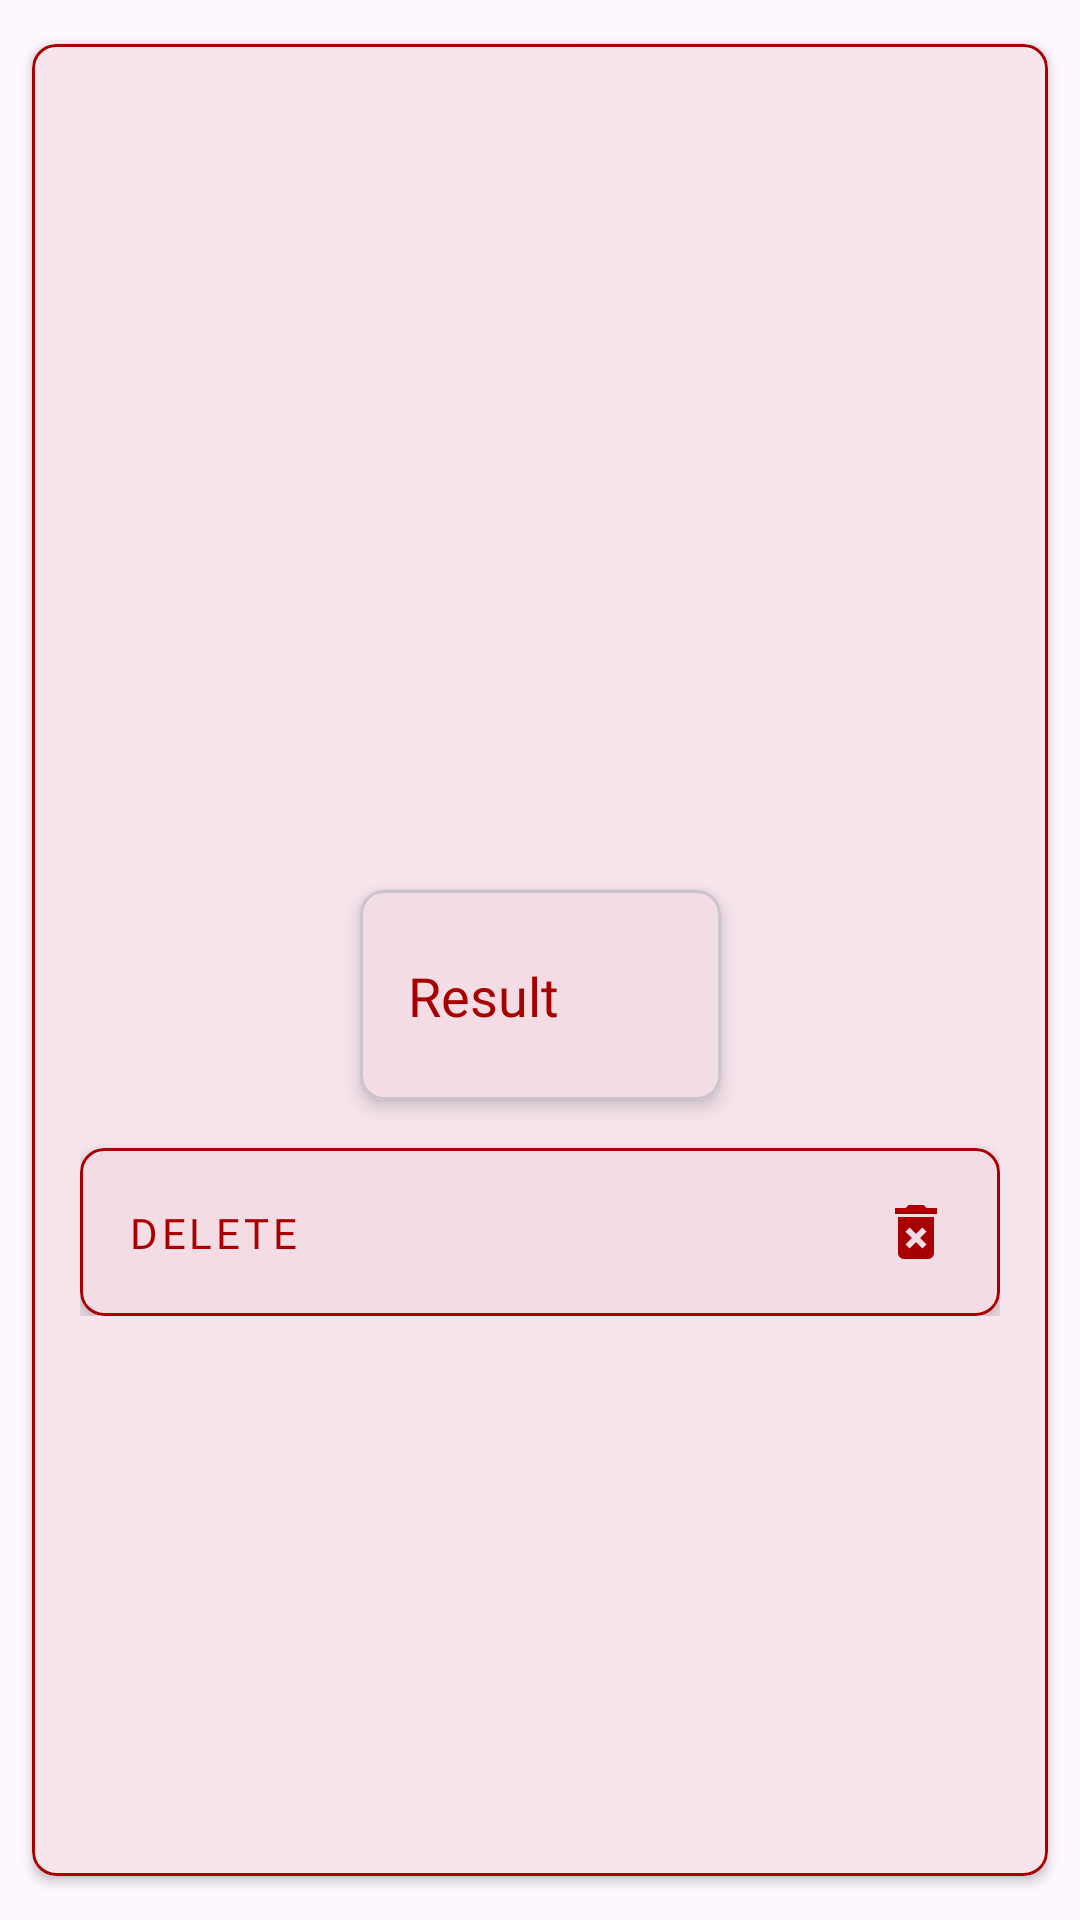

Icon bounding boxes for this 1080x1920 phone screenshot, format (x1, y1, x2, y2):
delete: (895, 1205, 937, 1259)
